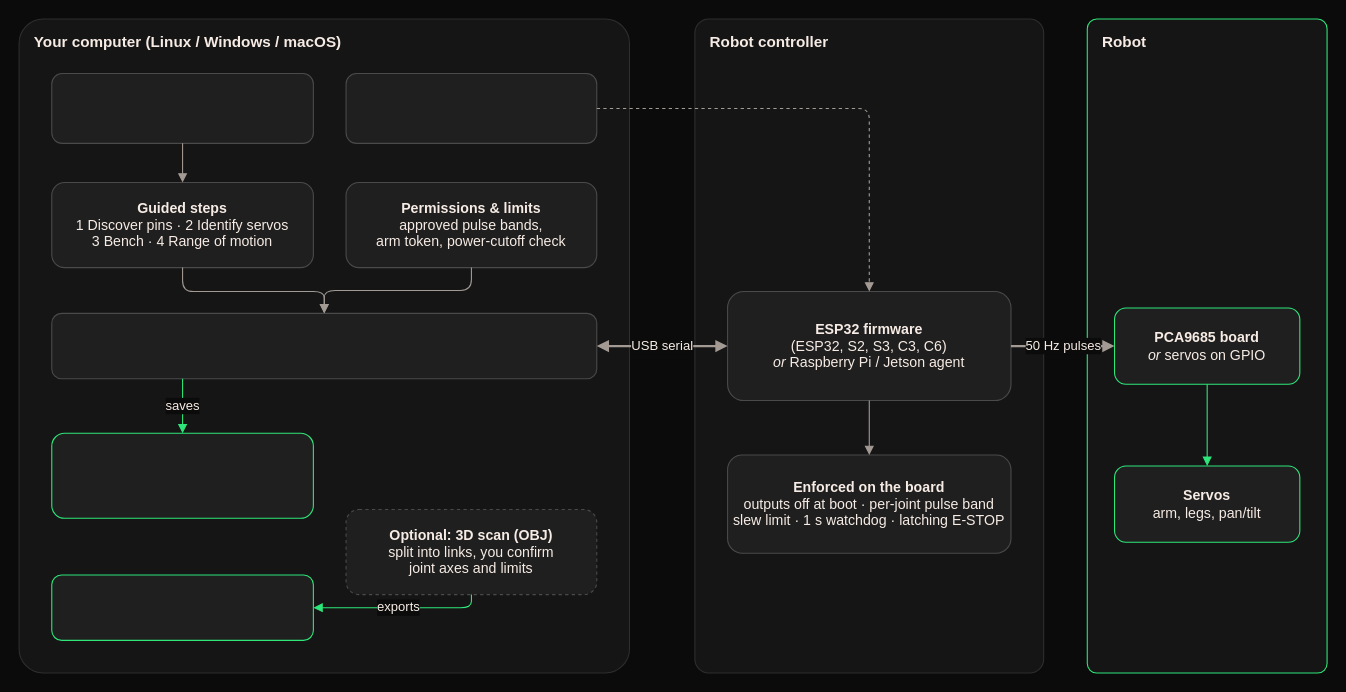
Image size: 1346x692. Some labels were removed from this diagram. Each missing label, with the centre of its shape:
Hardware map (JSON) joint names, pins, safe ranges, validated on every save: [182,475]
robo_prober.py desktop window · CLI · Python API: [182,107]
Session + serial transport ROBOPROBE/1 · heartbeat · E-STOP: [324,345]
URDF model for simulators, reload-checked: [182,607]
USB discovery + flasher lists ports, backs up and installs firmware (esptool): [471,107]
